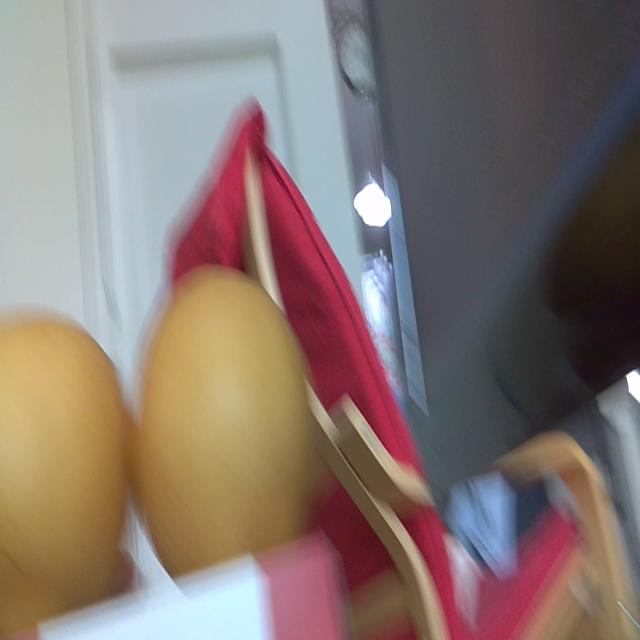pear: (136, 258, 315, 578), (2, 309, 132, 618)
